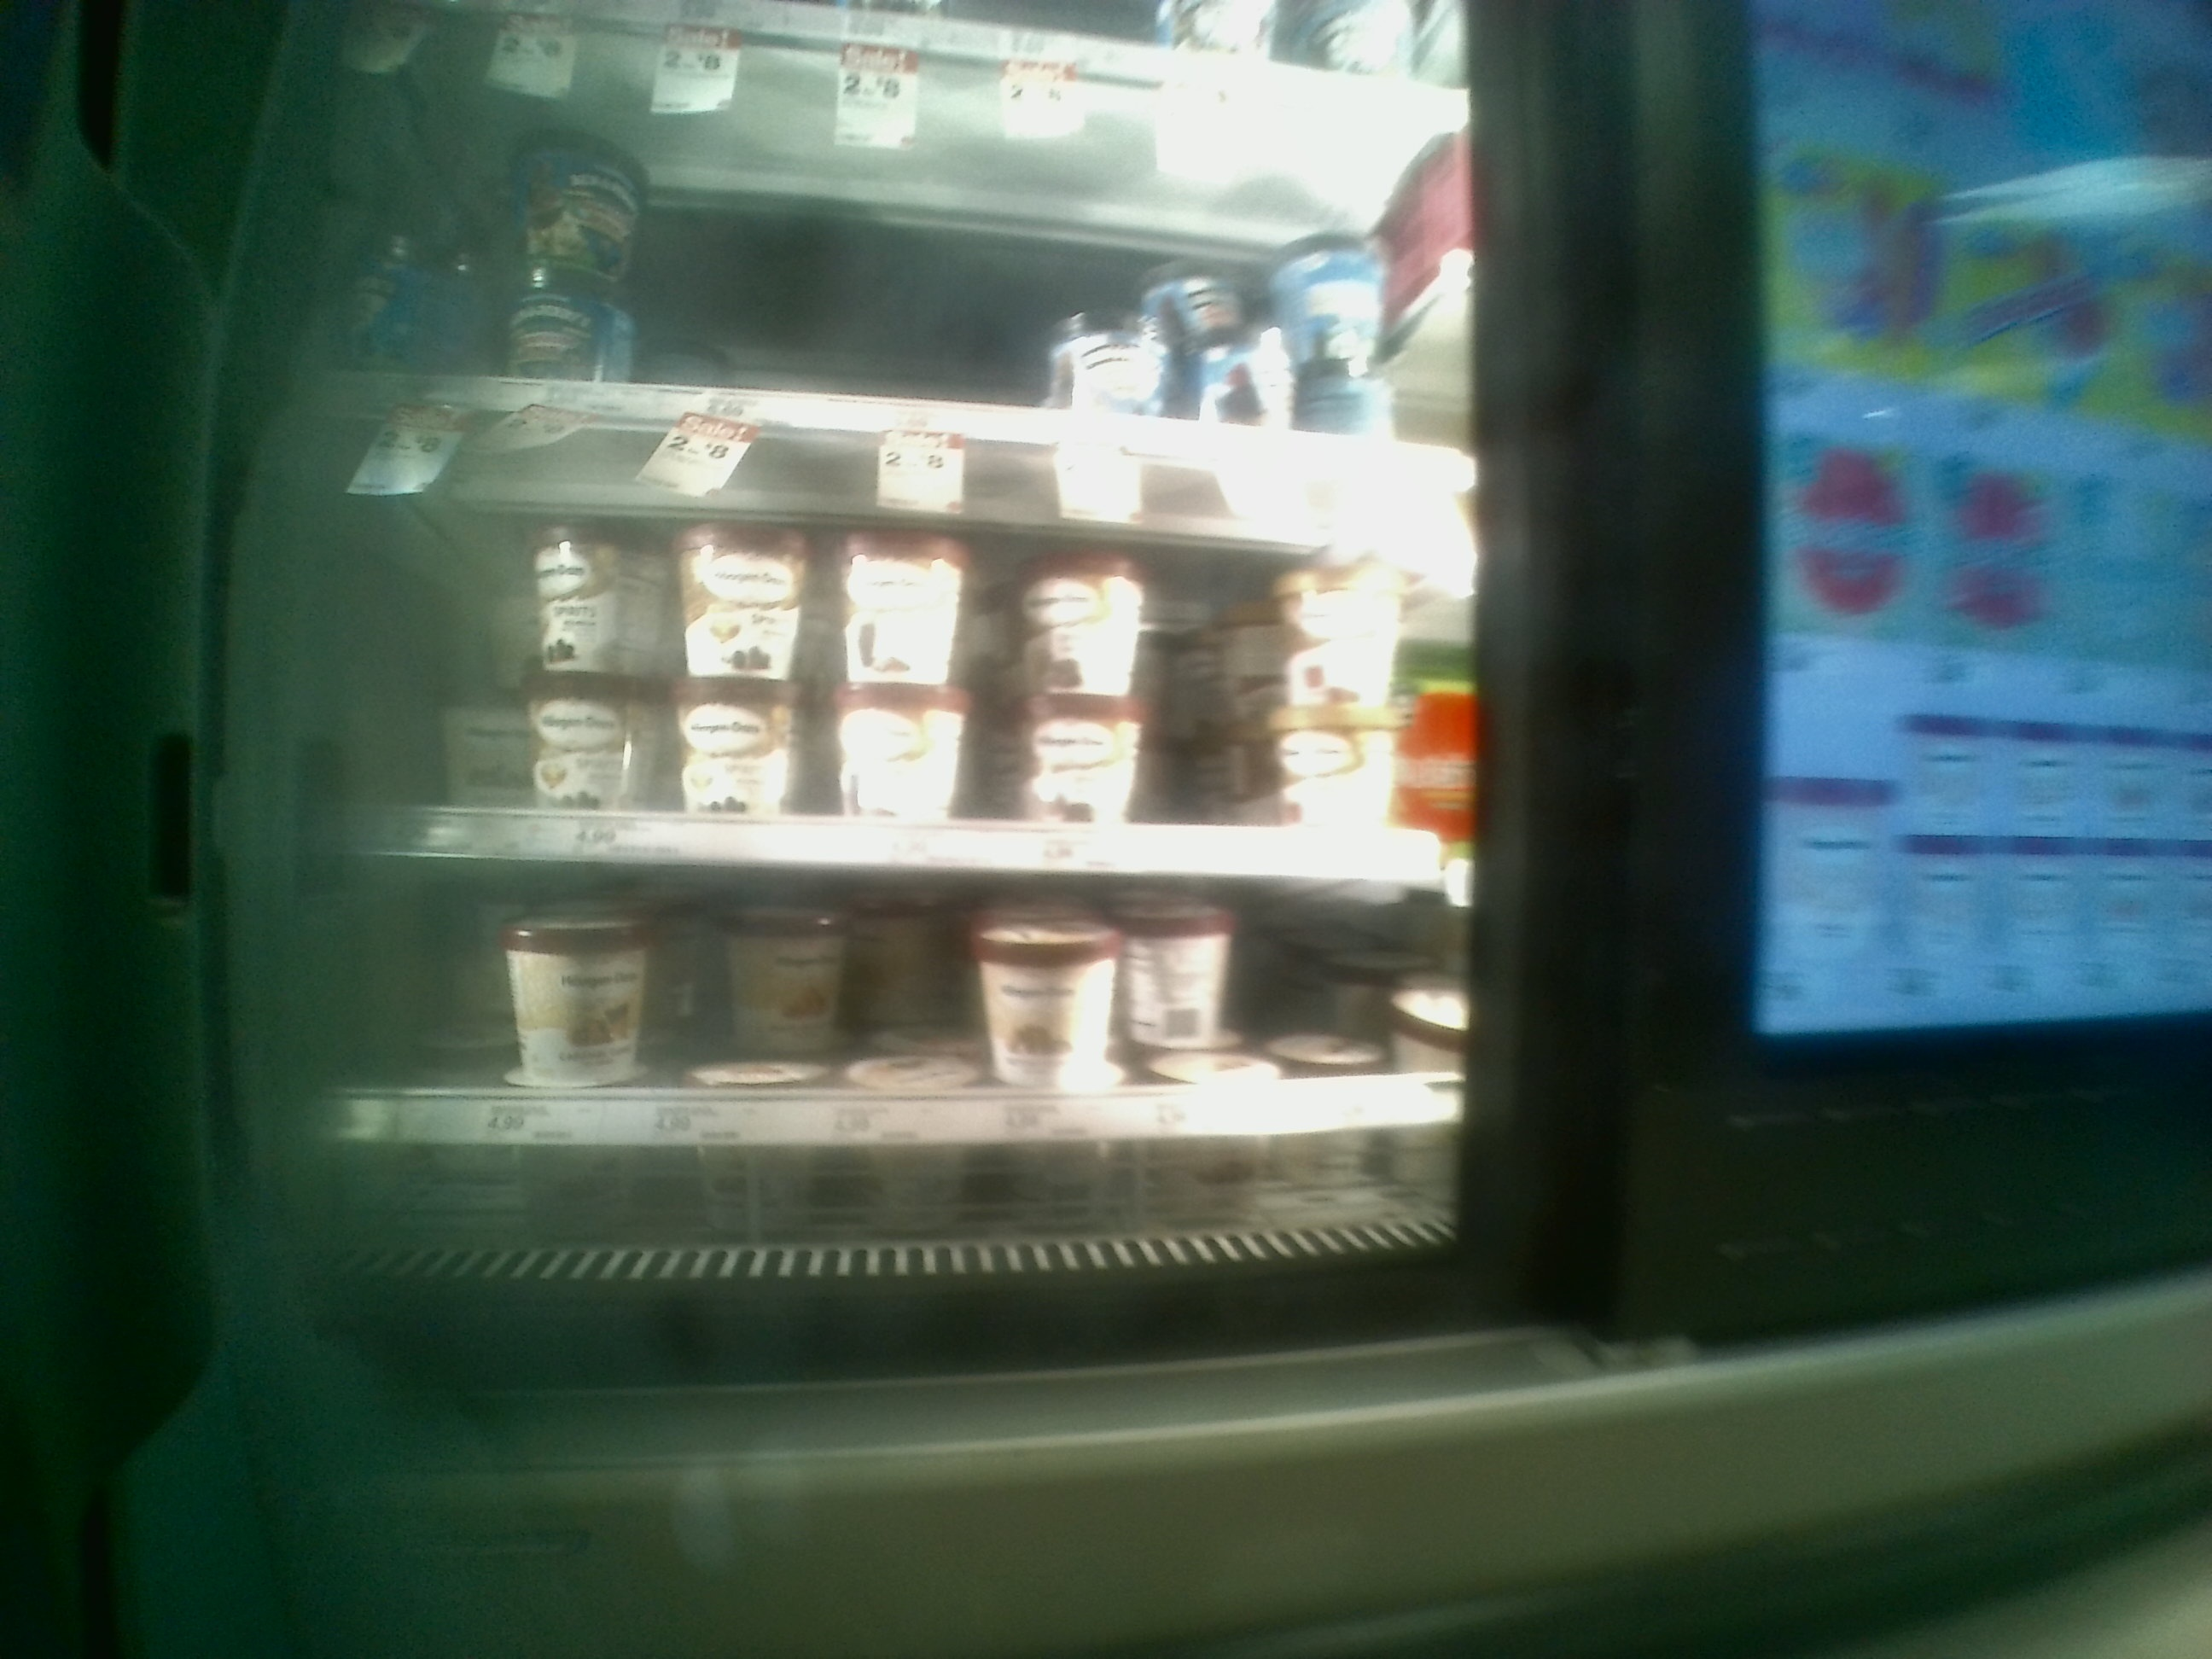shelf: (366, 403, 1484, 864), (361, 863, 1474, 1195)
